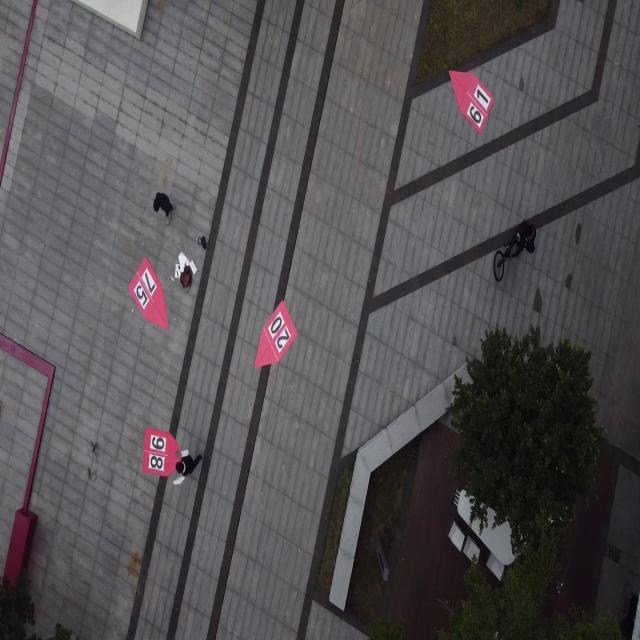-sign-: (254, 298, 298, 369), (128, 257, 170, 330), (448, 69, 493, 136), (142, 429, 182, 479)
